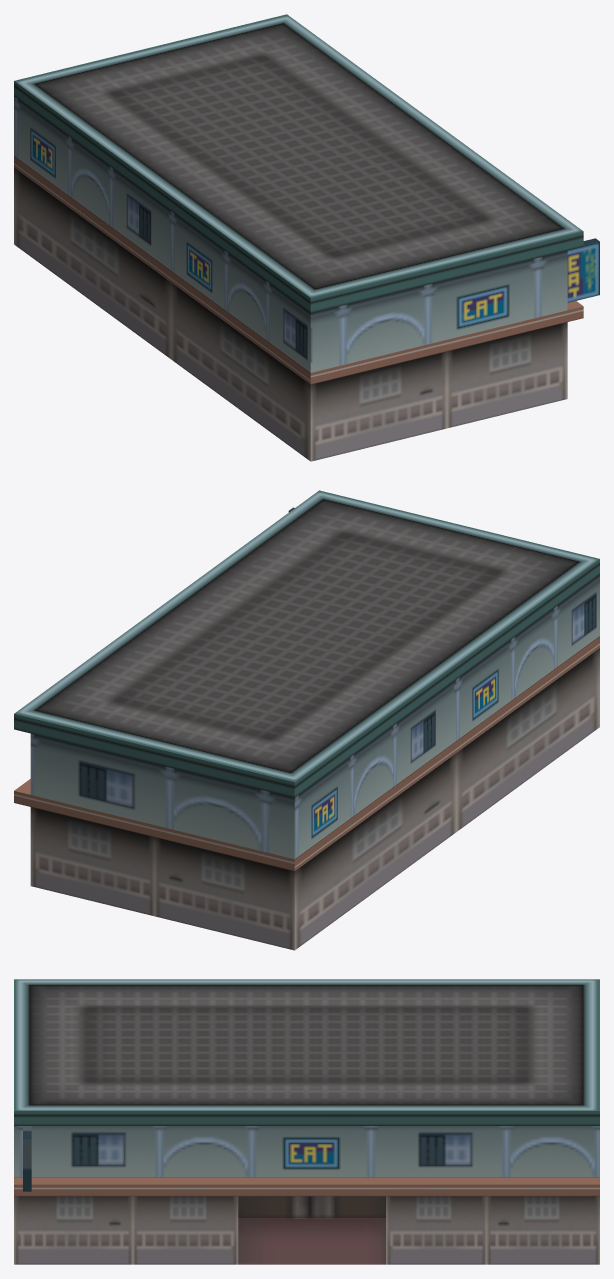
Rendered from SunsetBoulevard.fbx.
3 views of the same model, one above another, from view 1: azimuth 30°, elevation 25°; view 2: azimuth 150°, elevation 25°; view 3: azimuth 270°, elevation 25° (orthographic). The views are drawn at different scales.
Visible parts, largest first — view 1: pasted__SunsetBoulevard2; view 2: pasted__SunsetBoulevard2; view 3: pasted__SunsetBoulevard2.
Boxes of the visible parts, x1,y1,x2,y2 form: pasted__SunsetBoulevard2: [14, 14, 599, 461]; pasted__SunsetBoulevard2: [14, 490, 599, 950]; pasted__SunsetBoulevard2: [14, 979, 599, 1264].
Bounding box in the file's own units: 3.42 × 1.82 × 5.99.
